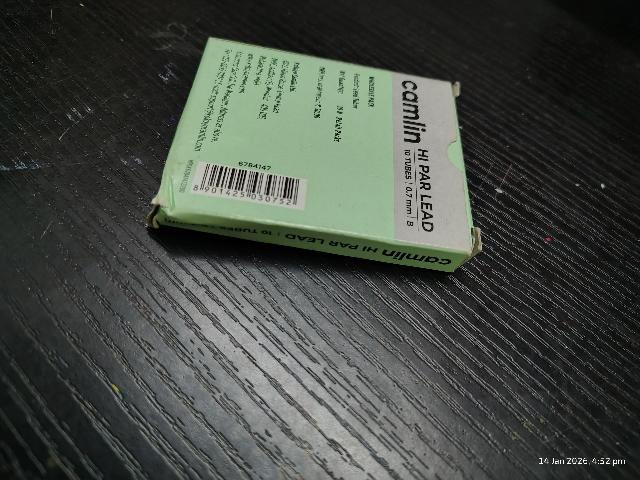camlin lids: (157, 46, 473, 273)
